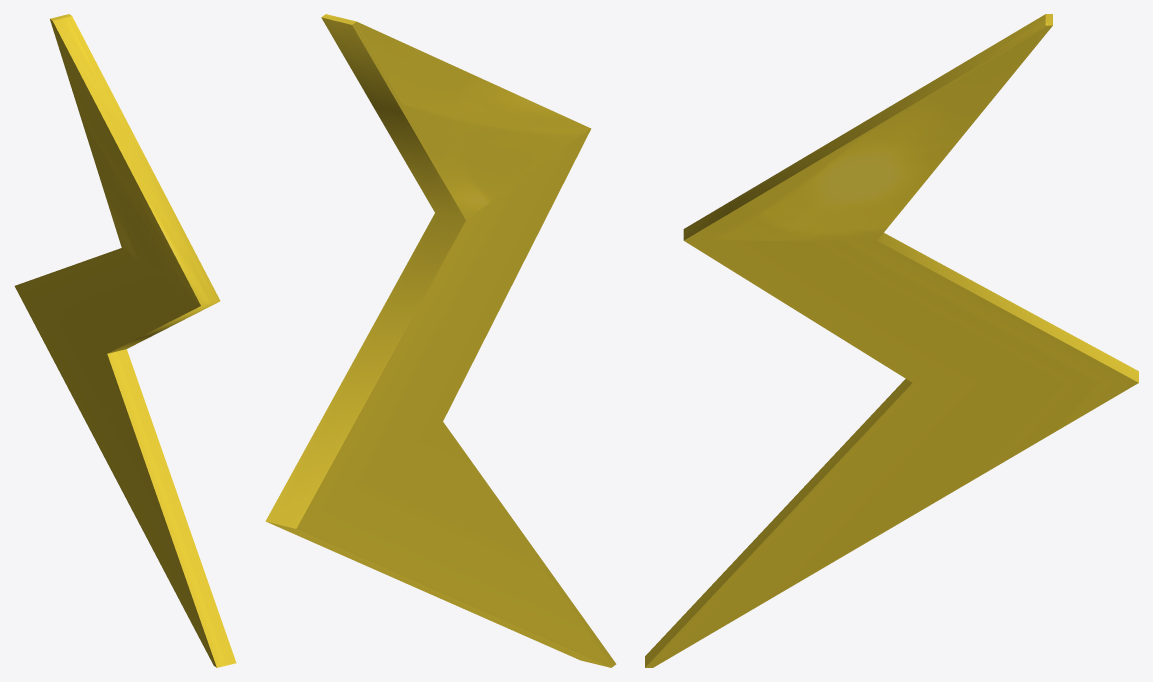
Rendered from Electric_power.fbx.
3 views of the same model, side by side, from view 1: azimuth 30°, elevation 25°; view 2: azimuth 150°, elevation 25°; view 3: azimuth 270°, elevation 25° (orthographic). The views are drawn at different scales.
Parts seen in each view (by area): view 1: Lightning; view 2: Lightning; view 3: Lightning.
Part boxes in pixels (<box>): Lightning: <box>14,14,236,667</box>; Lightning: <box>265,14,616,667</box>; Lightning: <box>645,14,1138,667</box>.
Size of the model in its own units: 0.1059 by 2.72 by 1.9.
